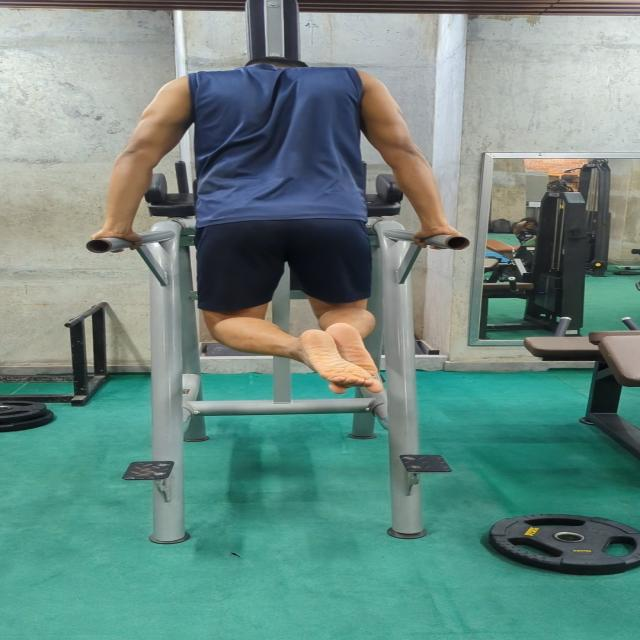Normal_Dips: (86, 47, 465, 415)
